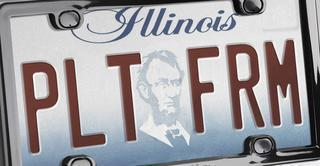placa de veiculo: (3, 2, 317, 166)
